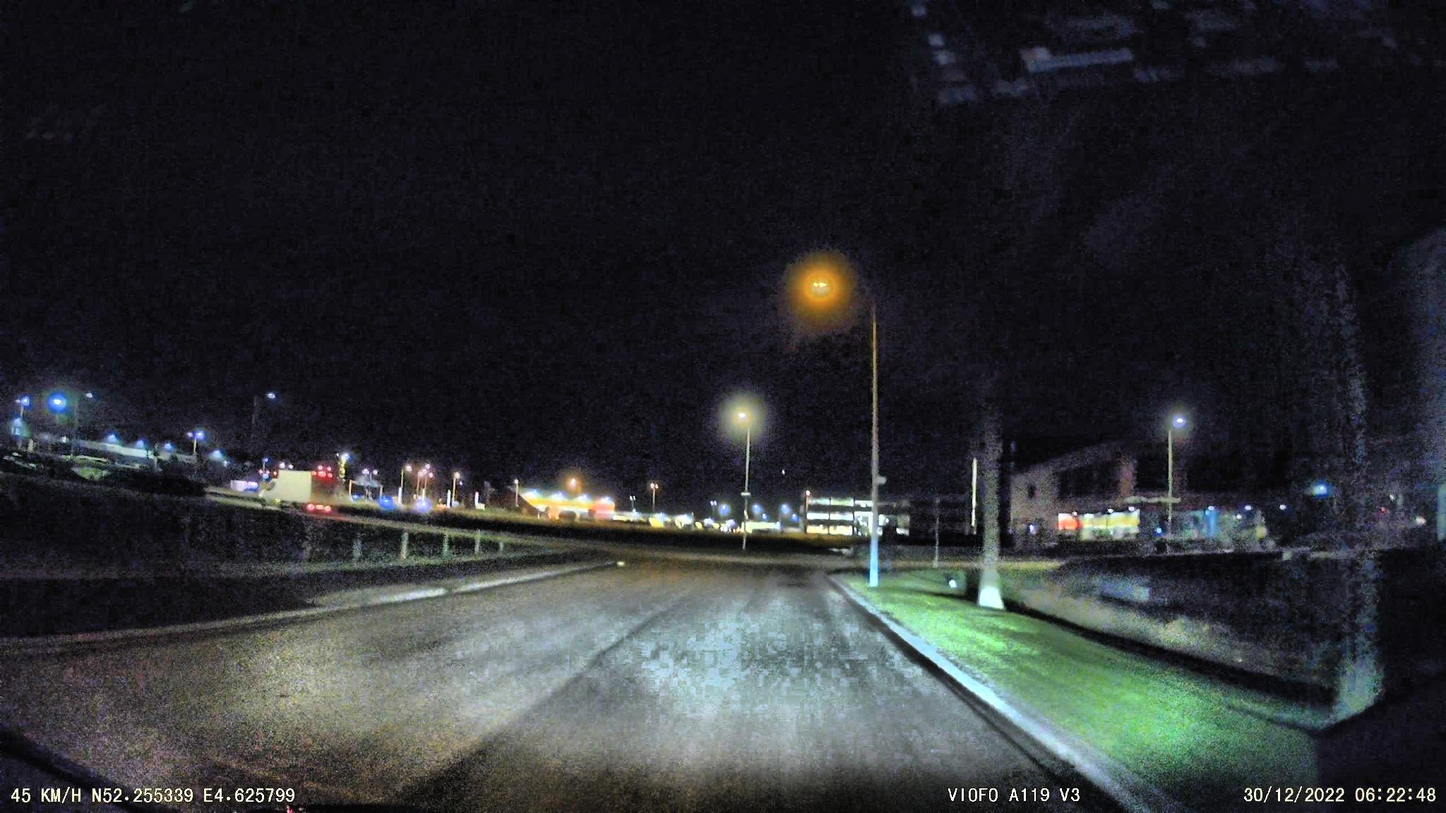Roads: (61, 543, 1011, 813)
